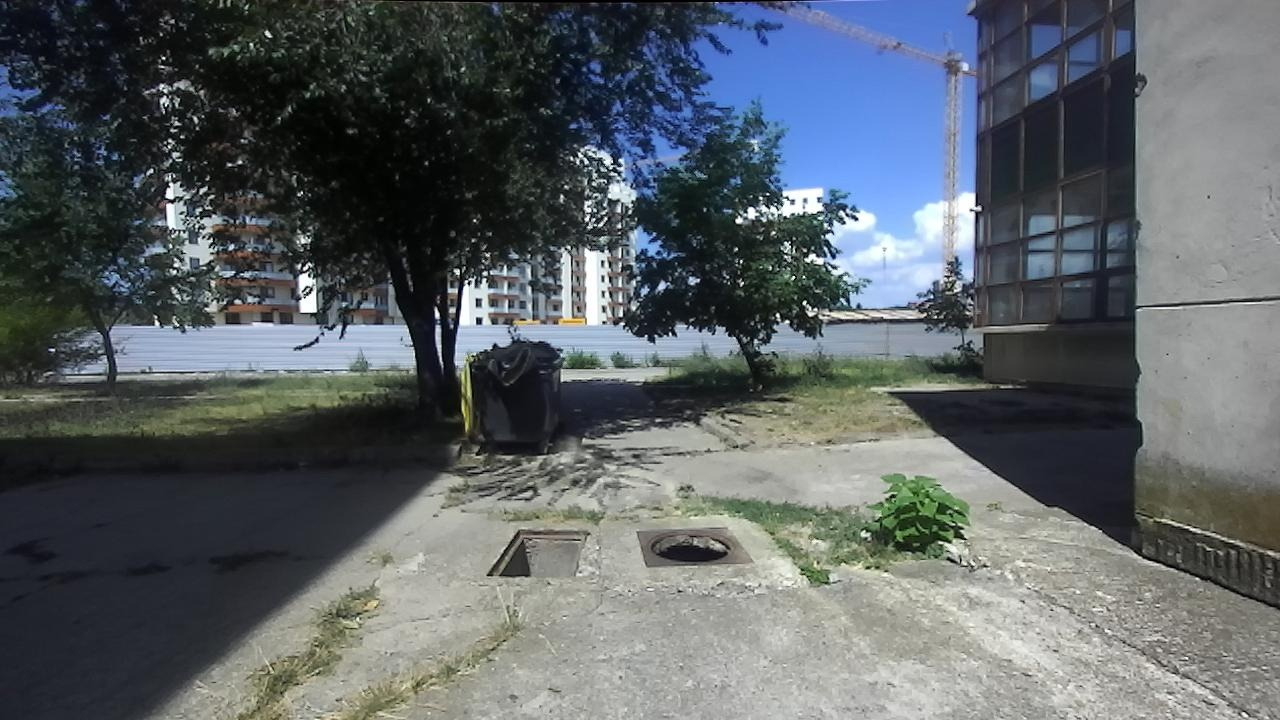drain: (481, 524, 593, 582), (644, 527, 736, 566)
